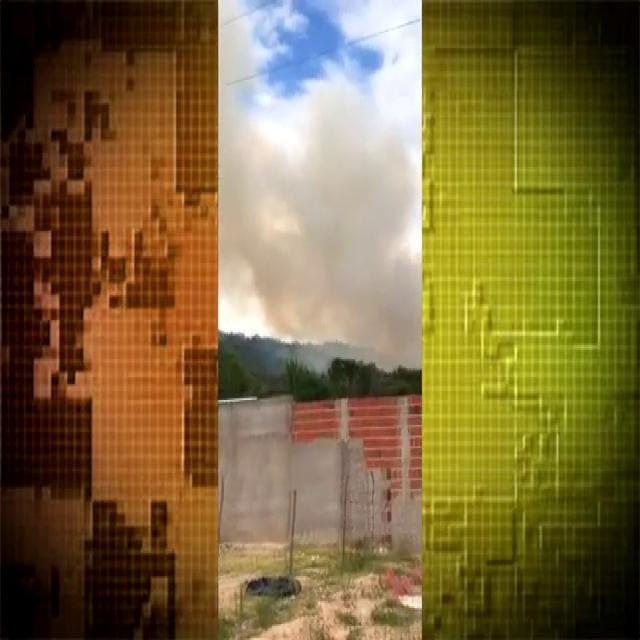Smoke: (216, 7, 423, 384)
